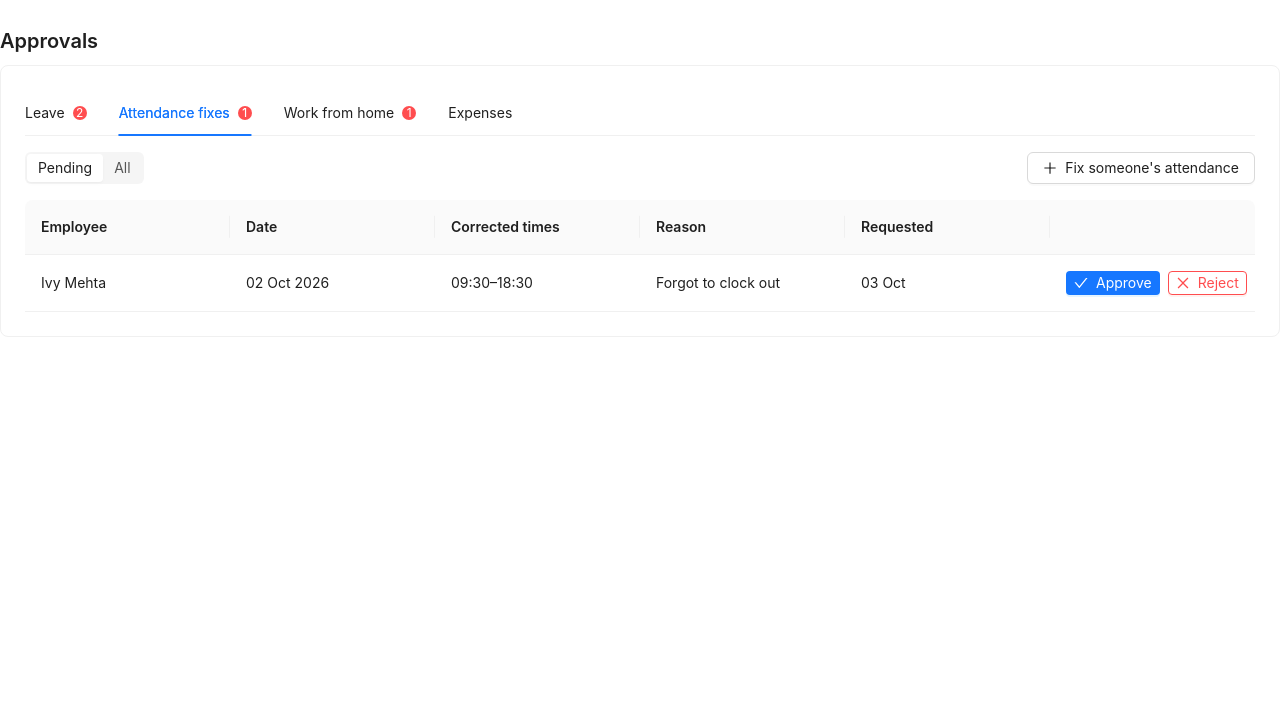
Approvals: attendance tabs › approves a fix with a note, and drops it from Pending
Expected: the text "09:30–18:30" is shown, [435,255,640,312]
Step 1. Click the button with aria-label "Approve Ivy Mehta" → (1113, 283), box [1066,271,1160,295]
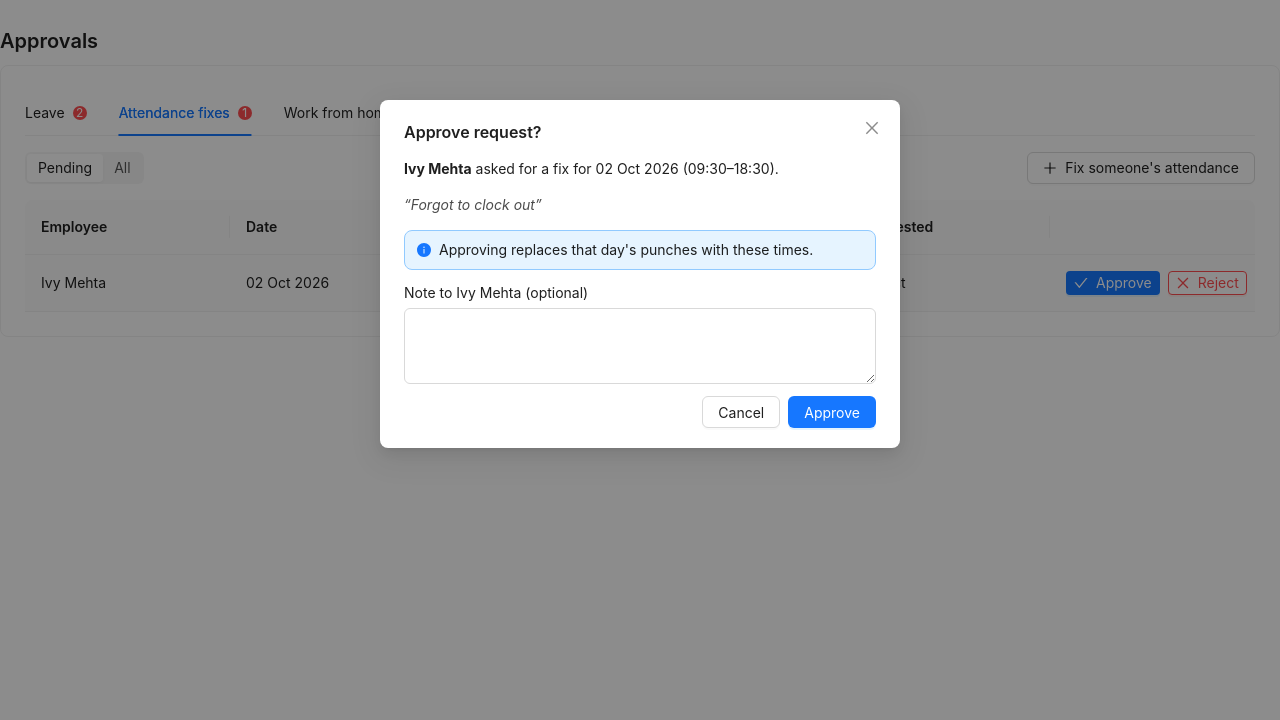
Expected: the text "Approving replaces that day's punches with these times." is shown, [439,239,863,261]
Step 2. Type "Done" into the text box labelled "Note to Ivy Mehta (optional)" → (640, 346), box [404,308,876,384]
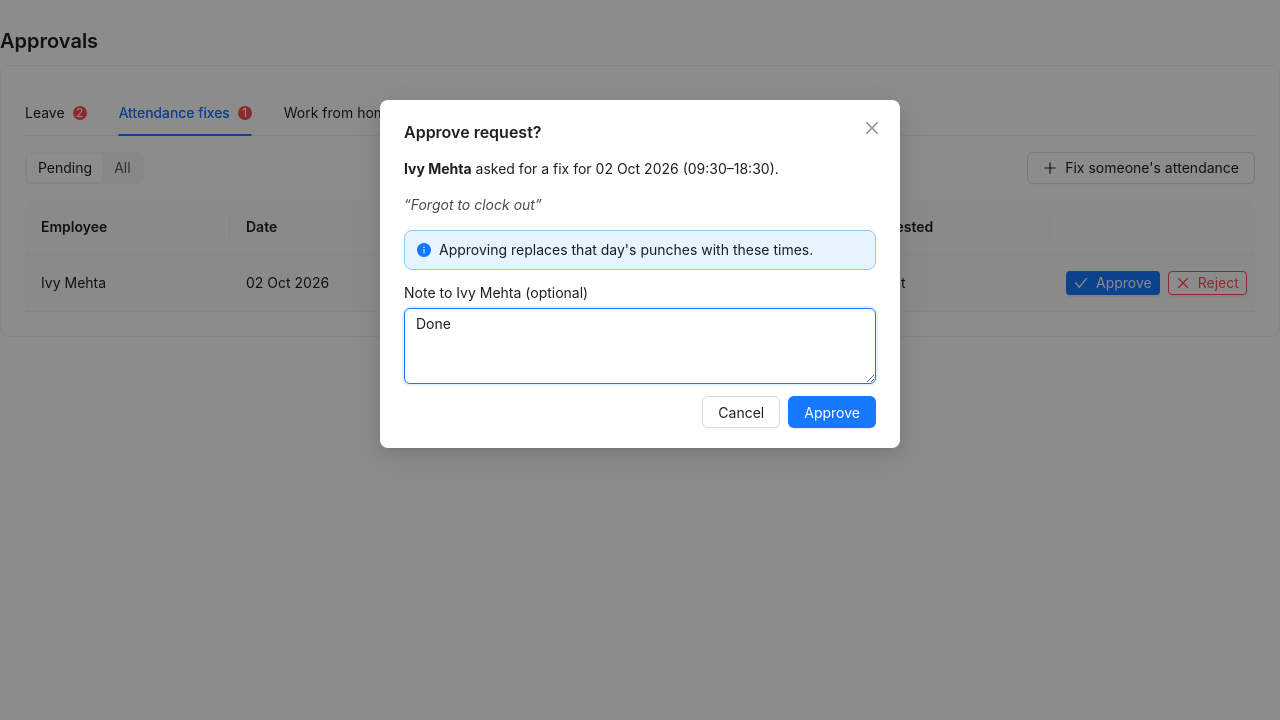
Step 3. Click the button "Approve" → (832, 412), box [788,396,876,428]
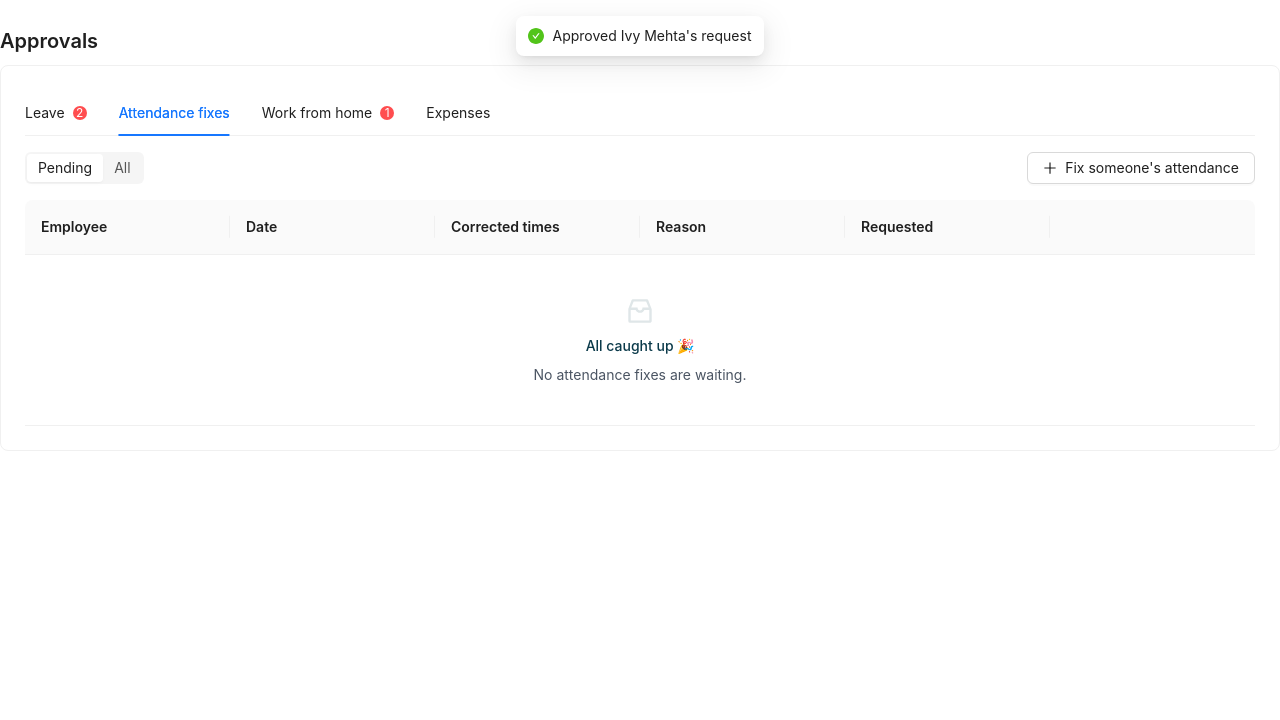
Expected: the text "All caught up 🎉" is shown, [586,335,694,357]
Expected: the tab "Attendance fixes" no longer shows "1", [119,102,230,124]
Step 4. Click the text "All" → (122, 167), box [114,159,131,176]
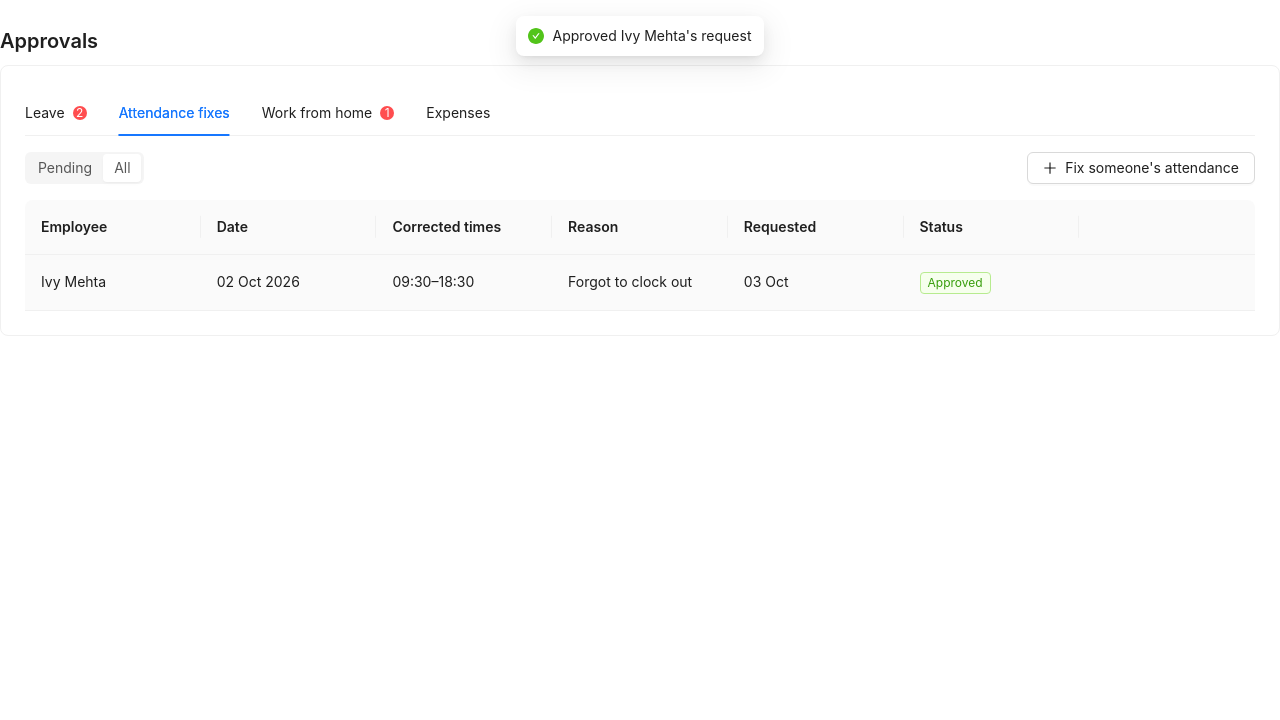
Expected: the text "Approved" is shown, [920,272,991,294]
